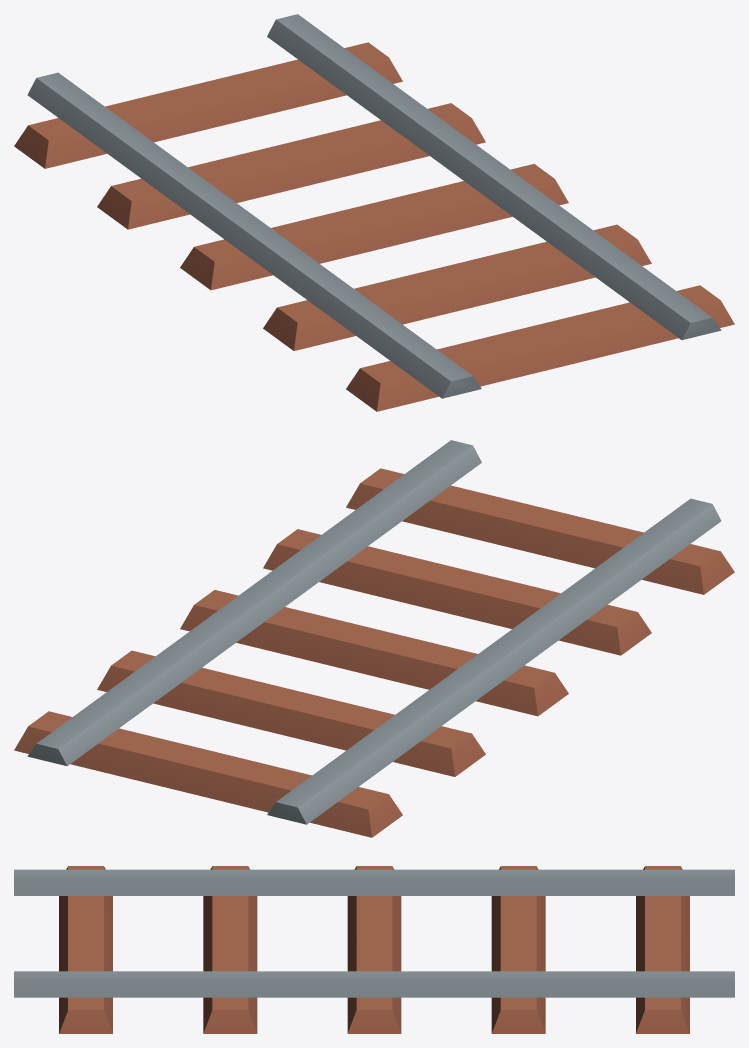
File: tracks_straight.glb
3 renders of one model, top to bottom at view 1: azimuth 30°, elevation 25°; view 2: azimuth 150°, elevation 25°; view 3: azimuth 270°, elevation 25°, orthographic. The views are drawn at different scales.
Parts seen in each view (by area): view 1: tracks_straight; view 2: tracks_straight; view 3: tracks_straight.
Part boxes in pixels (x1=…): tracks_straight: x1=14, y1=14, x2=734, y2=411; tracks_straight: x1=14, y1=440, x2=734, y2=837; tracks_straight: x1=14, y1=866, x2=734, y2=1033.
Bounding box in the file's own units: 0.4985 × 0.05 × 1.
Materials: 1 (1 with a texture image).
